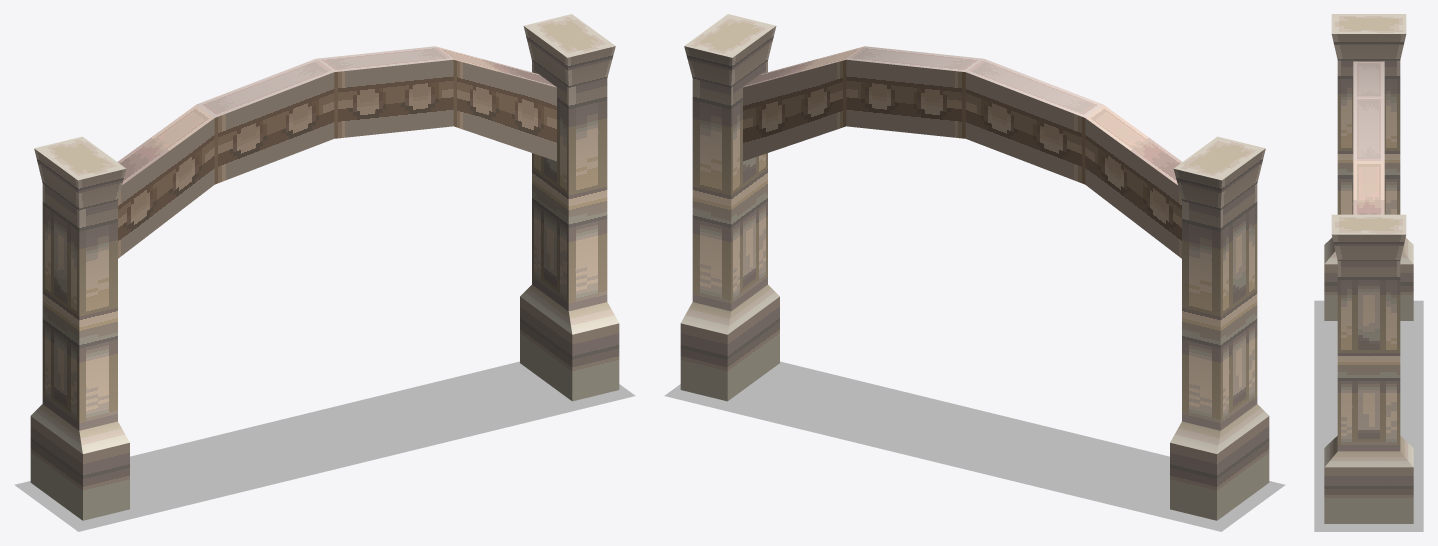
Rendered from c1_gateway_03.dae.
The picture shows the model from 3 angles, left to right: view 1: azimuth 30°, elevation 25°; view 2: azimuth 150°, elevation 25°; view 3: azimuth 270°, elevation 25°; orthographic projection. The views are drawn at different scales.
Visible parts, largest first — view 1: c1_gateway_03; view 2: c1_gateway_03; view 3: c1_gateway_03.
Part boxes in pixels (x1,y1,x2,y2): c1_gateway_03: [14, 14, 635, 531]; c1_gateway_03: [664, 14, 1285, 531]; c1_gateway_03: [1314, 14, 1423, 531].
Size of the model in its own units: 140 by 90 by 28.
